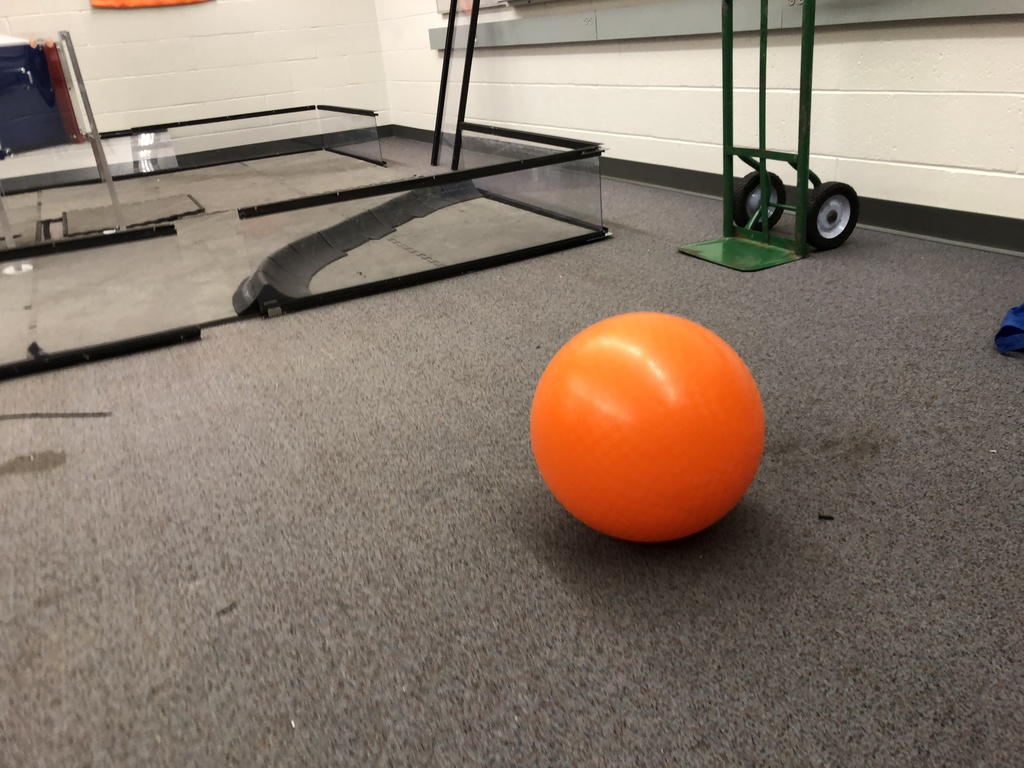cargo: (532, 303, 775, 555)
